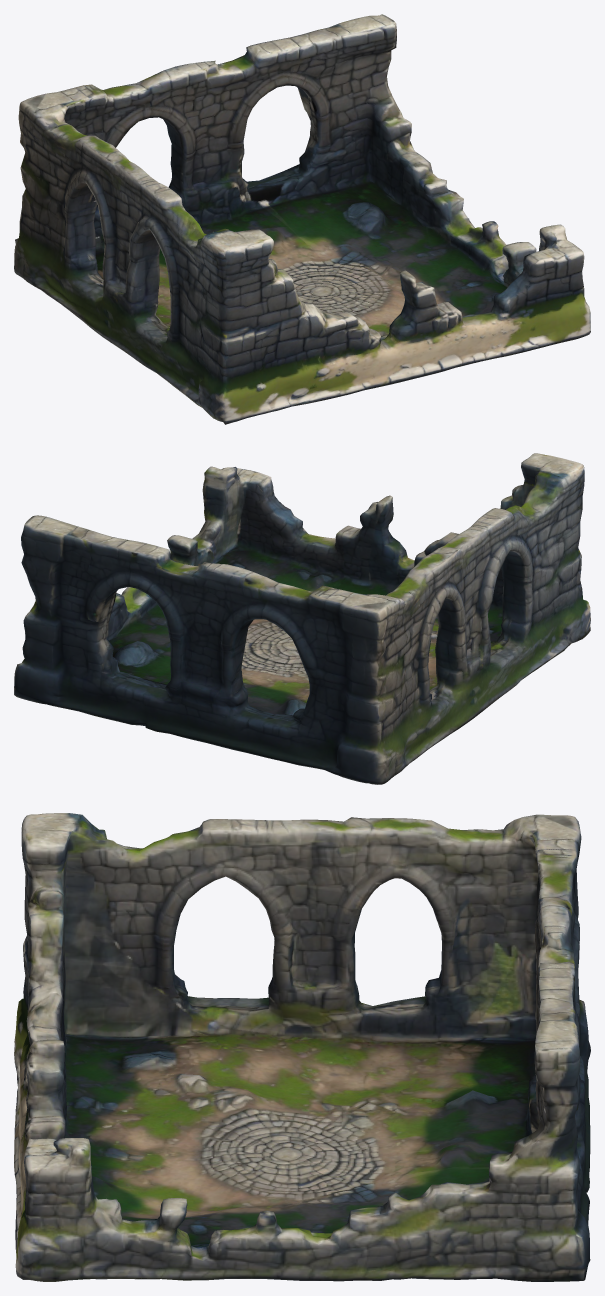
File: arena.glb
3 renders of one model, top to bottom at view 1: azimuth 30°, elevation 25°; view 2: azimuth 150°, elevation 25°; view 3: azimuth 270°, elevation 25°, orthographic. The views are drawn at different scales.
Bounding box in the file's own units: 1.99 × 0.8778 × 1.99.
Materials: 1 (1 with a texture image).
